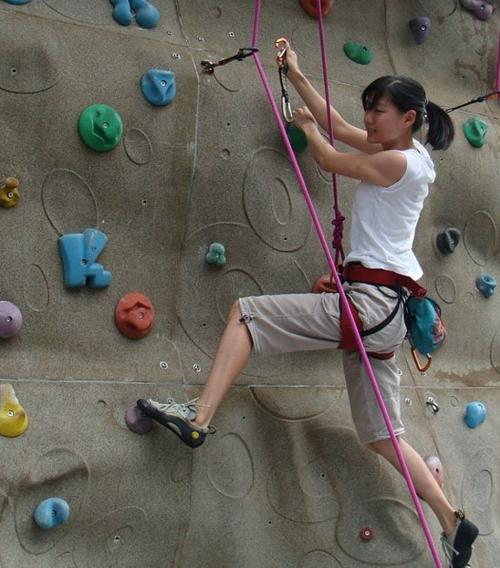person: (137, 45, 480, 568)
